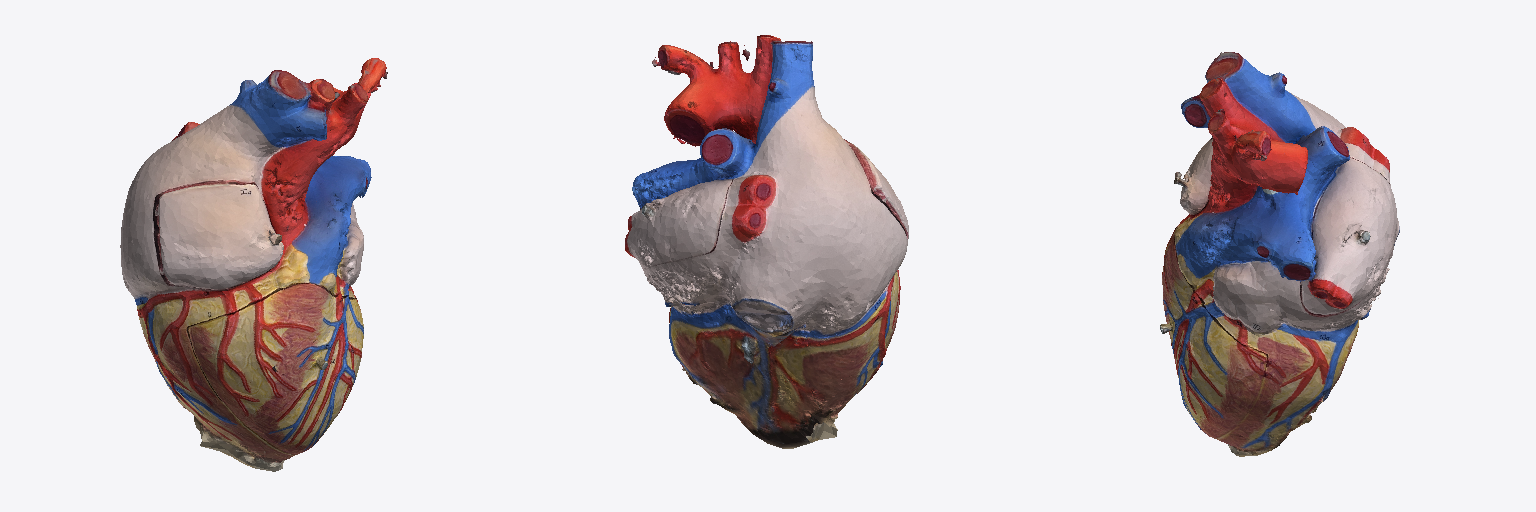
The picture shows the model from 3 angles: view 1: azimuth 30°, elevation 25°; view 2: azimuth 150°, elevation 25°; view 3: azimuth 270°, elevation 25°; orthographic projection.
Size of the model in its own units: 3.02 by 4.68 by 2.54.
1 materials, 1 textured.